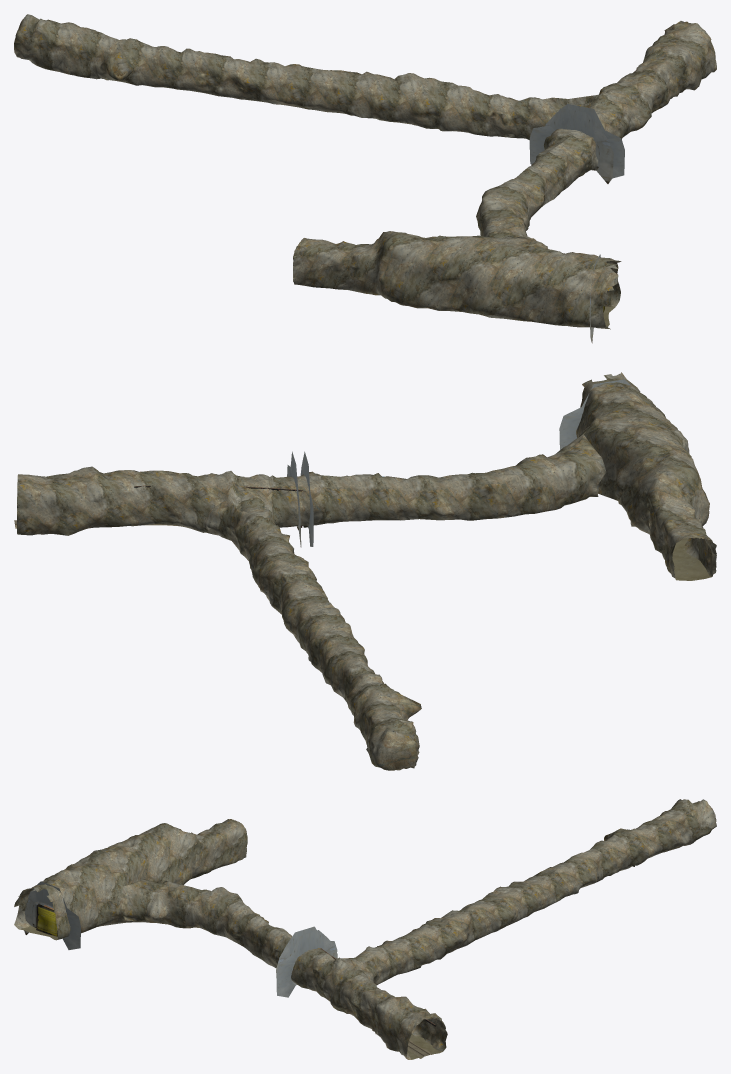
The model's file is Edgar_Section_03.DAE.
The picture shows the model from 3 angles, top to bottom: view 1: azimuth 30°, elevation 25°; view 2: azimuth 150°, elevation 25°; view 3: azimuth 270°, elevation 25°; orthographic projection. The views are drawn at different scales.
Visible parts, largest first — view 1: Section_03_Walls, Section_03_Doors; view 2: Section_03_Walls, Section_03_Doors, Section_03_Ground; view 3: Section_03_Walls, Section_03_Doors, Section_03_Ground.
Boxes of the visible parts, left/top/right/bottom form: Section_03_Walls: left=14, top=14, right=716, bottom=329; Section_03_Doors: left=529, top=104, right=624, bottom=343; Section_03_Walls: left=17, top=372, right=716, bottom=770; Section_03_Doors: left=287, top=379, right=630, bottom=547; Section_03_Ground: left=616, top=500, right=711, bottom=580; Section_03_Walls: left=14, top=799, right=716, bottom=1059; Section_03_Doors: left=24, top=881, right=337, bottom=997; Section_03_Ground: left=19, top=903, right=442, bottom=1059.
Bounding box in the file's own units: 4032 × 580 × 5408.
6 materials, 6 textured.
